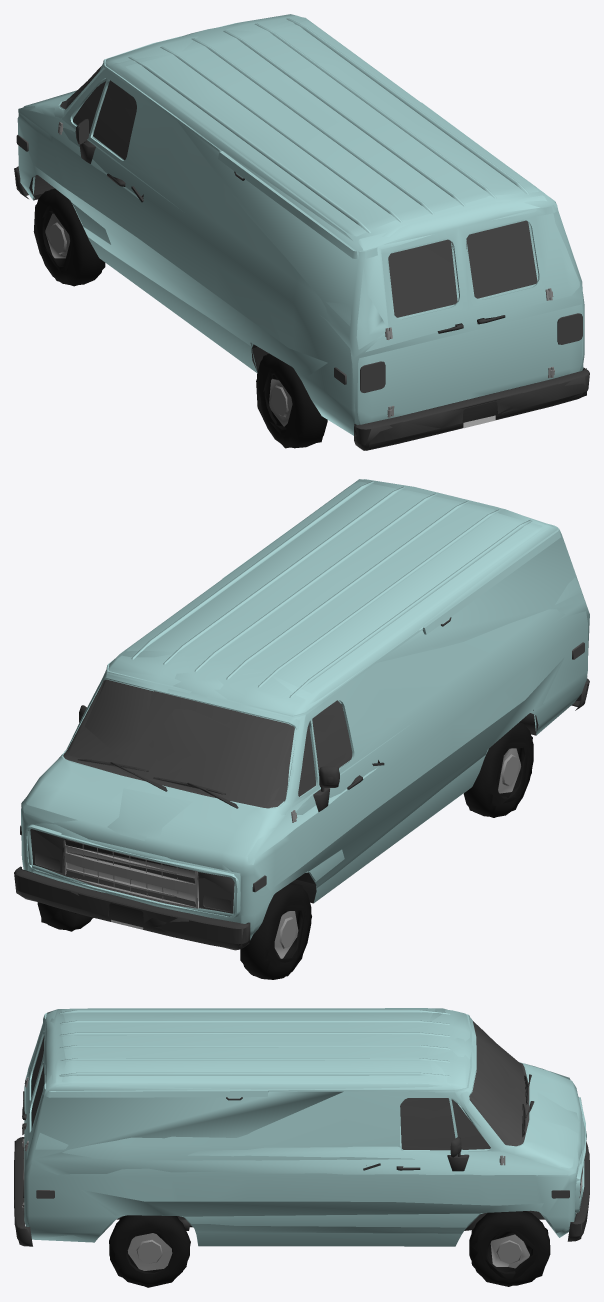
File: Van.fbx
The picture shows the model from 3 angles, top to bottom: view 1: azimuth 30°, elevation 25°; view 2: azimuth 150°, elevation 25°; view 3: azimuth 270°, elevation 25°; orthographic projection. The views are drawn at different scales.
Visible parts, largest first — view 1: Van, Van Lod; view 2: Van, Van Lod; view 3: Van, Van Lod.
Part boxes in pixels (left/top/right/bottom): Van: left=14, top=14, right=589, bottom=450; Van Lod: left=14, top=17, right=586, bottom=450; Van: left=15, top=479, right=589, bottom=979; Van Lod: left=14, top=479, right=589, bottom=976; Van: left=14, top=1008, right=589, bottom=1285; Van Lod: left=14, top=1008, right=589, bottom=1287.
Bounding box in the file's own units: 248 × 231 × 591.
